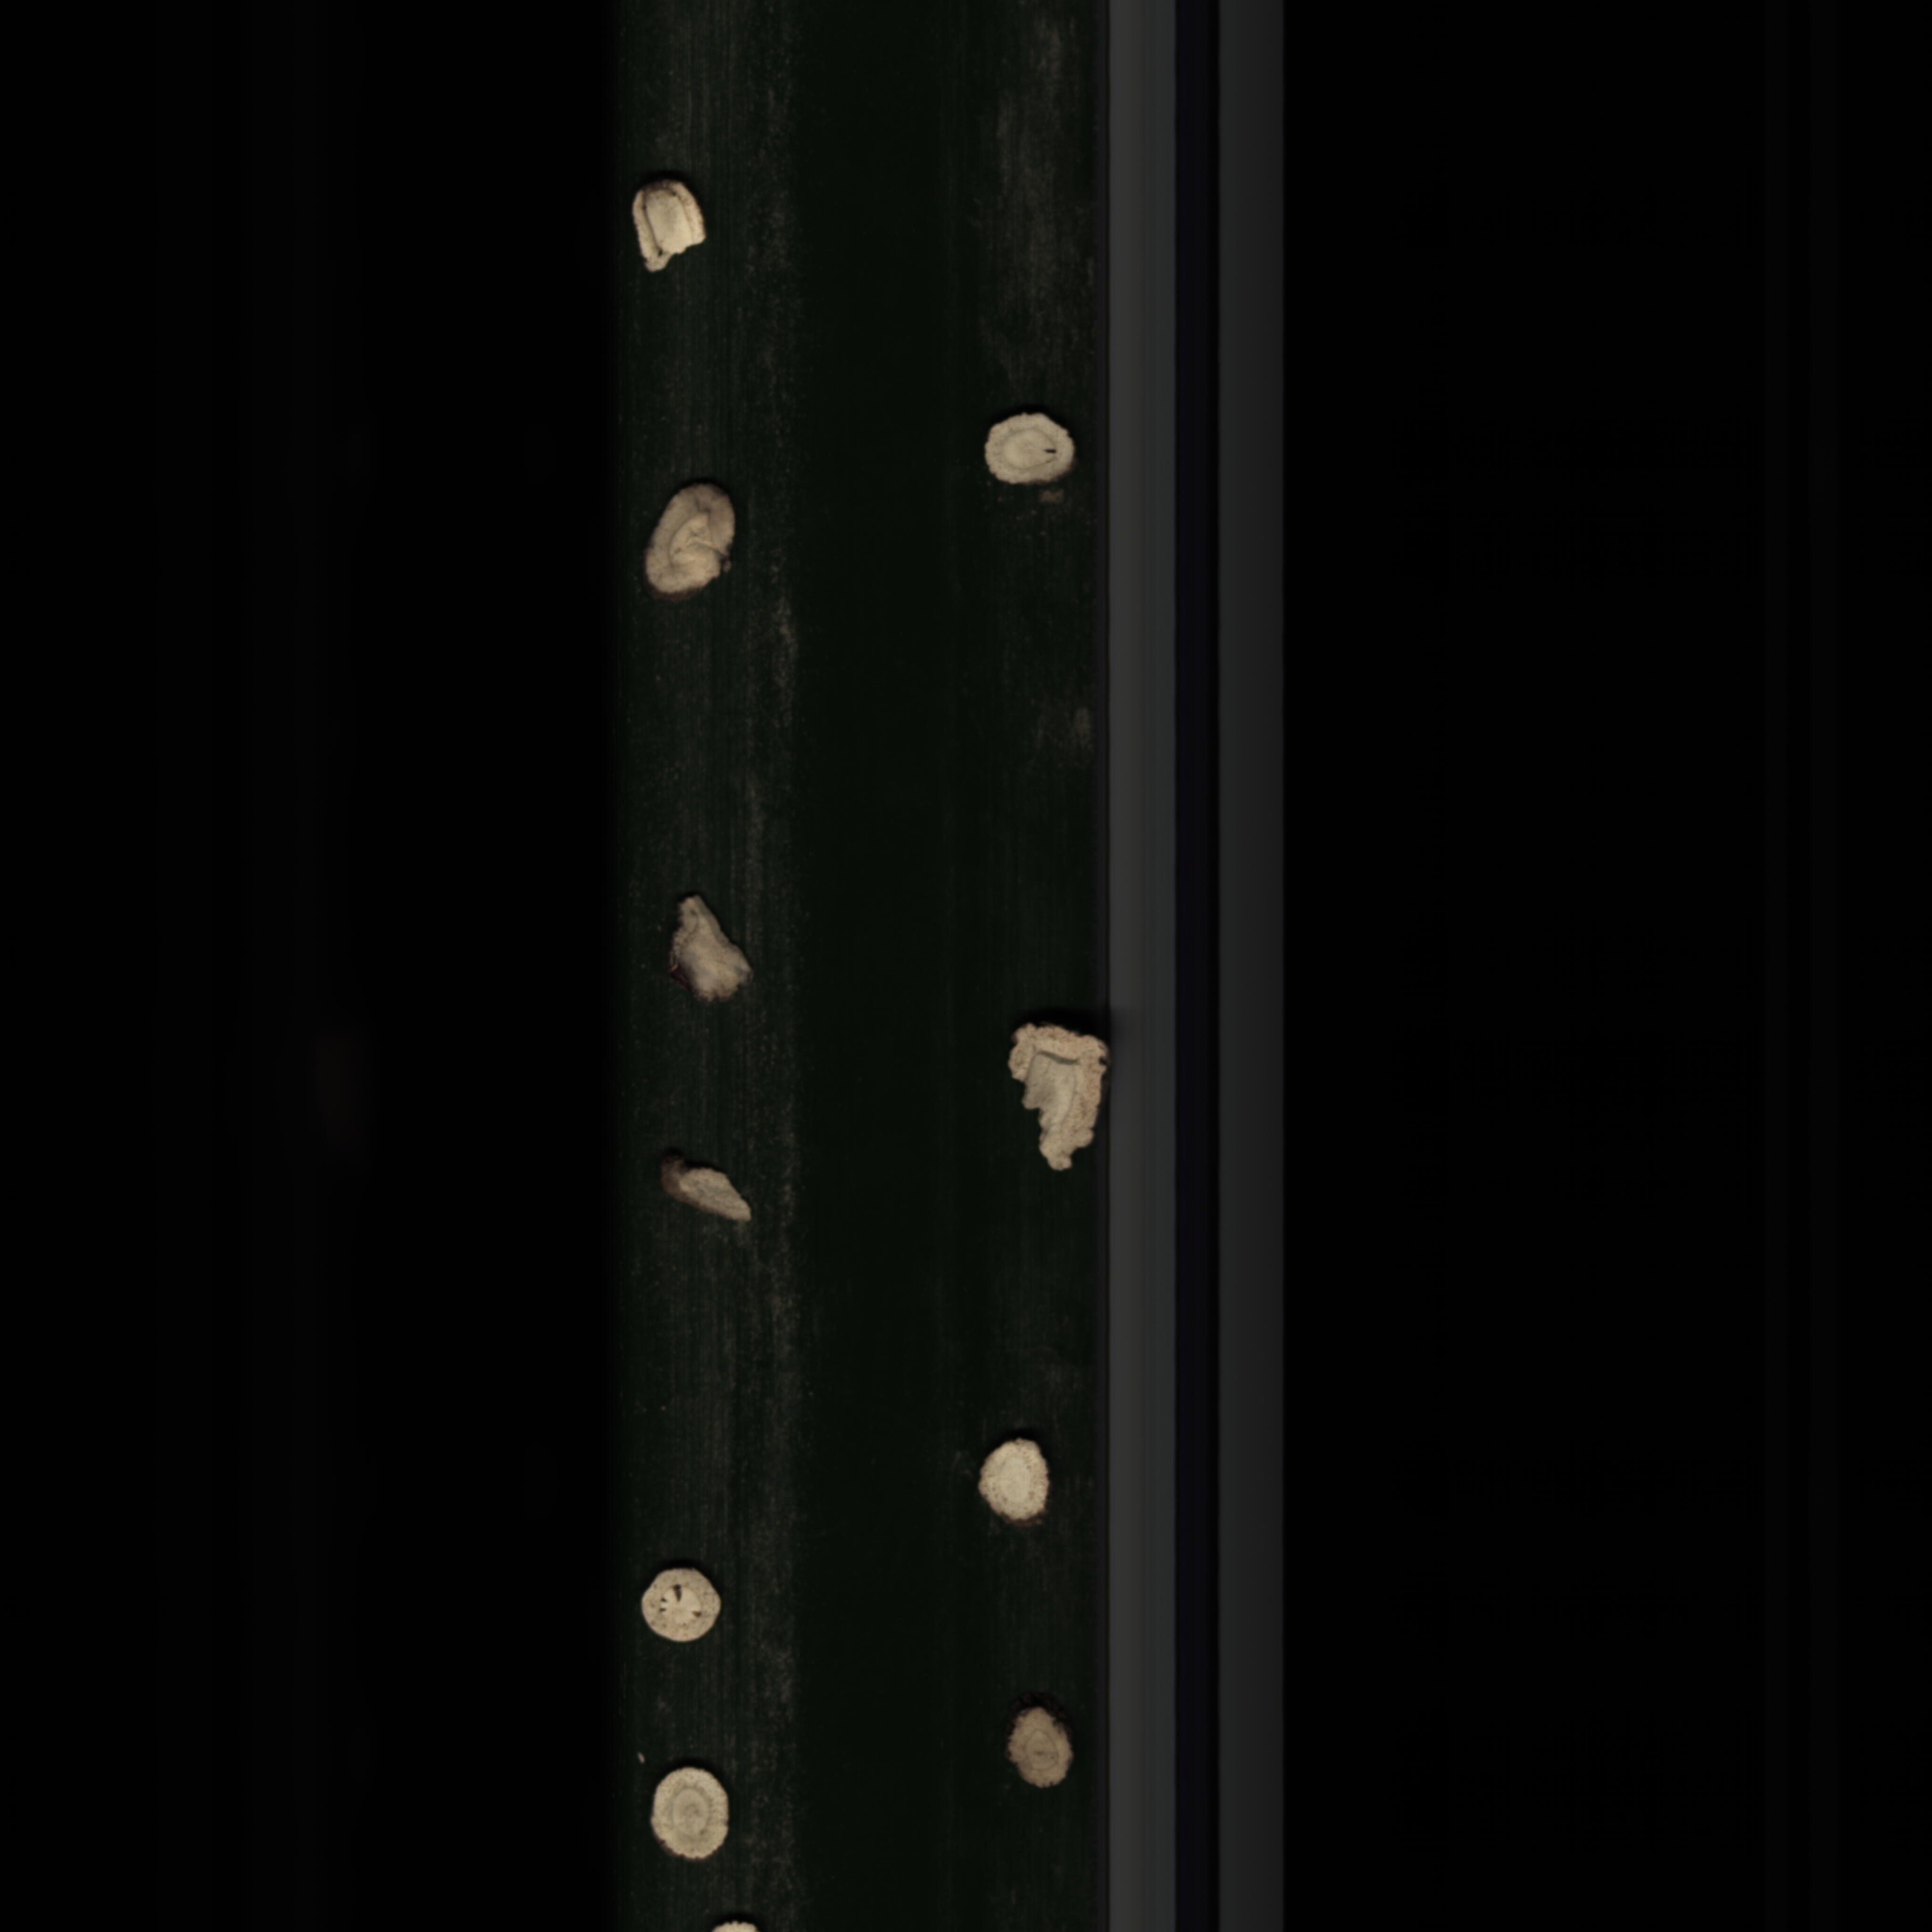bark: (656, 888, 766, 1014)
debris: (1005, 1014, 1113, 1177), (623, 173, 727, 283), (651, 1146, 773, 1233)
hole: (633, 1564, 736, 1654)
moldy: (1000, 1700, 1076, 1796)
